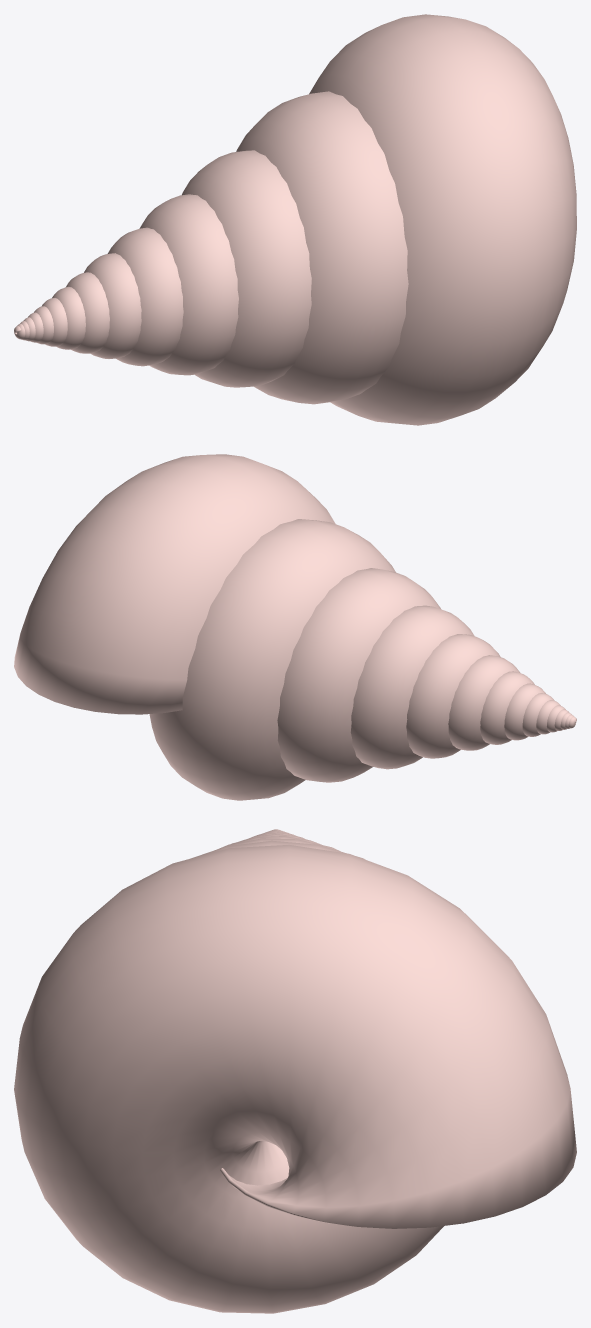
The model's file is Shell.fbx.
3 renders of one model, top to bottom at view 1: azimuth 30°, elevation 25°; view 2: azimuth 150°, elevation 25°; view 3: azimuth 270°, elevation 25°, orthographic. The views are drawn at different scales.
Parts seen in each view (by area): view 1: Circle; view 2: Circle; view 3: Circle.
Boxes of the visible parts, x1,y1,x2,y2 form: Circle: (14, 14, 576, 425); Circle: (14, 454, 576, 800); Circle: (14, 829, 576, 1313).
Size of the model in its own units: 498 by 293 by 314.
